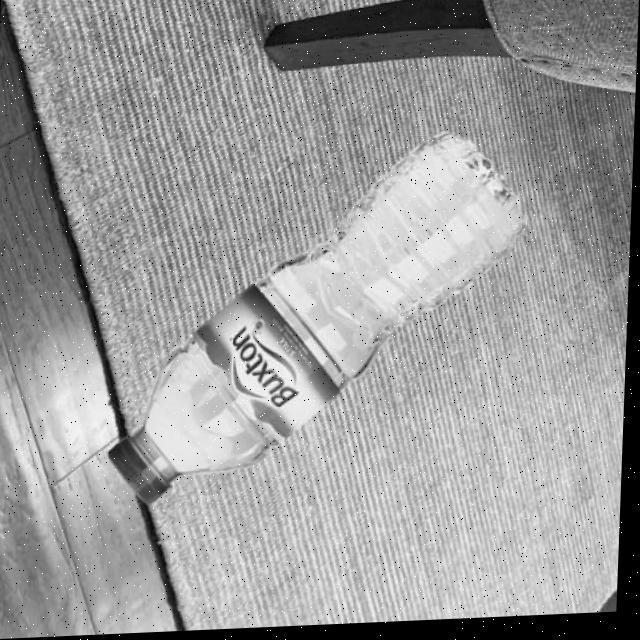bottle: (108, 131, 534, 508)
